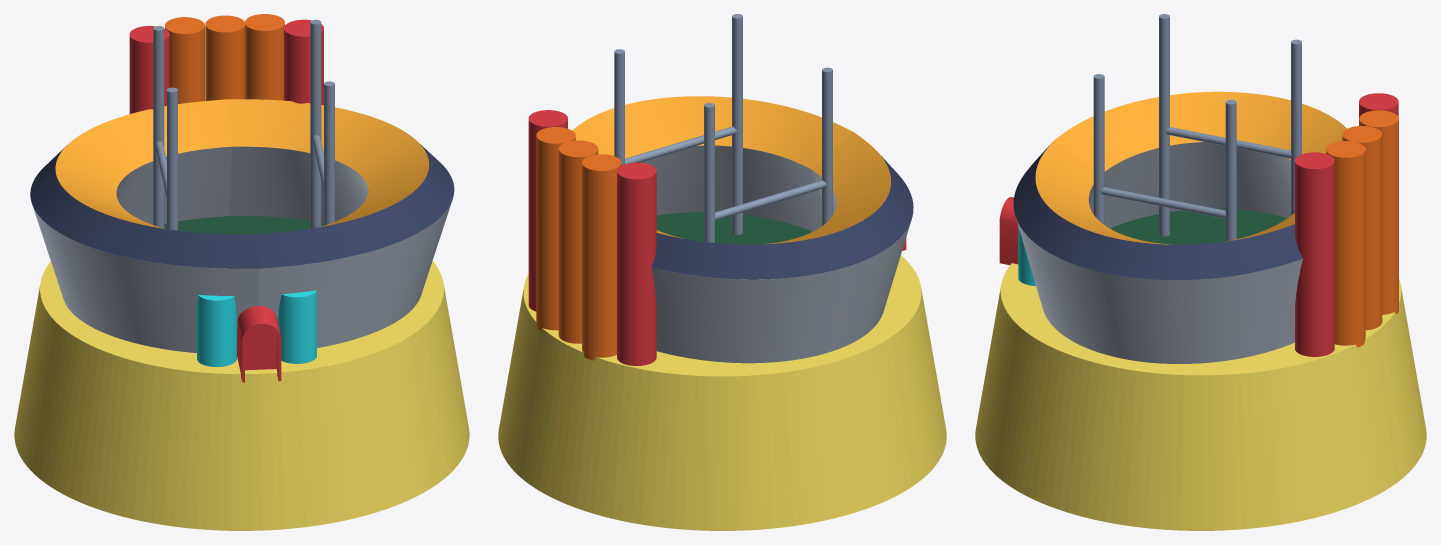
Rendered from Stadium.glb.
3 views of the same model, side by side, from view 1: azimuth 30°, elevation 25°; view 2: azimuth 150°, elevation 25°; view 3: azimuth 270°, elevation 25° (orthographic).
Visible parts, largest first — view 1: Platform.001, Cylinder.033, Cylinder.027, Cylinder.030, Cylinder.040, Cylinder.039, Cylinder.041, Cylinder.037, Cylinder.036, Cylinder.035, Cylinder.042, Cylinder.038 (+1 smaller); view 2: Platform.001, Cylinder.033, Cylinder.042, Cylinder.041, Cylinder.040, Cylinder.039, Cylinder.027, Cylinder.030, Cylinder.034, Cylinder.038; view 3: Platform.001, Cylinder.033, Cylinder.038, Cylinder.039, Cylinder.030, Cylinder.027, Cylinder.040, Cylinder.041, Cylinder.034, Cylinder.036, Cylinder.042, Cylinder.035.
Part boxes in pixels (<box>): Platform.001: <box>14,261,469,530</box>; Cylinder.033: <box>30,99,454,352</box>; Cylinder.027: <box>310,19,334,228</box>; Cylinder.030: <box>153,26,177,230</box>; Cylinder.040: <box>205,15,245,100</box>; Cylinder.039: <box>245,14,284,100</box>; Cylinder.041: <box>165,17,204,103</box>; Cylinder.037: <box>197,295,236,366</box>; Cylinder.036: <box>237,306,281,382</box>; Cylinder.035: <box>277,290,316,363</box>; Cylinder.042: <box>129,26,169,113</box>; Cylinder.038: <box>284,19,323,105</box>; Platform.001: <box>498,255,946,530</box>; Cylinder.033: <box>572,96,913,363</box>; Cylinder.042: <box>617,162,656,365</box>; Cylinder.041: <box>582,154,621,360</box>; Cylinder.040: <box>558,140,598,343</box>; Cylinder.039: <box>536,127,575,330</box>; Cylinder.027: <box>614,14,742,234</box>; Cylinder.030: <box>704,67,832,242</box>; Cylinder.034: <box>656,212,812,244</box>; Cylinder.038: <box>528,110,567,311</box>; Platform.001: <box>975,263,1426,530</box>; Cylinder.033: <box>1013,91,1346,363</box>; Cylinder.038: <box>1295,152,1334,356</box>; Cylinder.039: <box>1326,141,1365,347</box>; Cylinder.030: <box>1159,14,1301,236</box>; Cylinder.027: <box>1093,74,1236,241</box>; Cylinder.040: <box>1342,126,1382,330</box>; Cylinder.041: <box>1359,110,1398,314</box>; Cylinder.034: <box>1110,208,1286,244</box>; Cylinder.036: <box>999,197,1018,265</box>; Cylinder.042: <box>1359,93,1398,125</box>; Cylinder.035: <box>1018,226,1035,285</box>.
Bounding box in the file's own units: 15.31 × 14.09 × 15.31.
